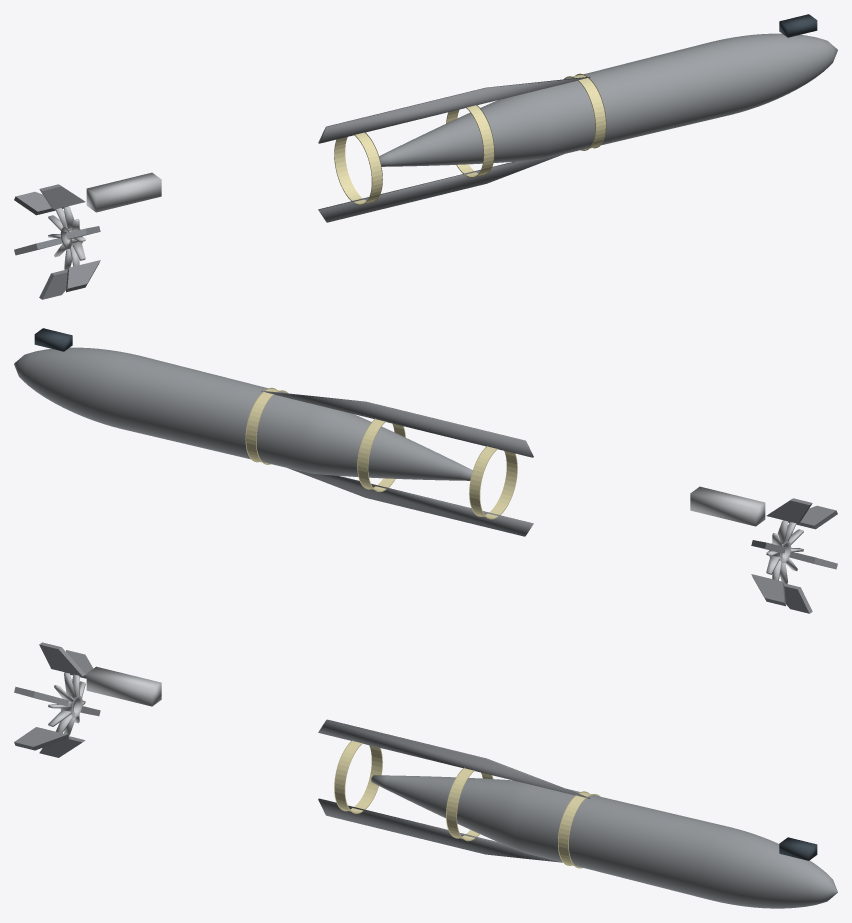
Rendered from RU_TORP_Fizik_LOD0.fbx.
The picture shows the model from 3 angles, top to bottom: view 1: azimuth 30°, elevation 25°; view 2: azimuth 150°, elevation 25°; view 3: azimuth 330°, elevation 25°; orthographic projection.
Parts seen in each view (by area): view 1: WPN_RU_TORP_Fizik_LOD0_Body, WPN_RU_TORP_Fizik_LOD0_Detail, WPN_RU_TORP_Fizik_LOD0_Marking, WPN_RU_TORP_Fizik_LOD0_Fins, WPN_RU_TORP_Fizik_LOD0_Propulsor, WPN_RU_TORP_Fizik_LOD0_Seeker; view 2: WPN_RU_TORP_Fizik_LOD0_Body, WPN_RU_TORP_Fizik_LOD0_Detail, WPN_RU_TORP_Fizik_LOD0_Marking, WPN_RU_TORP_Fizik_LOD0_Fins, WPN_RU_TORP_Fizik_LOD0_Propulsor, WPN_RU_TORP_Fizik_LOD0_Seeker; view 3: WPN_RU_TORP_Fizik_LOD0_Body, WPN_RU_TORP_Fizik_LOD0_Detail, WPN_RU_TORP_Fizik_LOD0_Marking, WPN_RU_TORP_Fizik_LOD0_Fins, WPN_RU_TORP_Fizik_LOD0_Propulsor, WPN_RU_TORP_Fizik_LOD0_Seeker.
Part boxes in pixels (x1,y1,x2,y2): WPN_RU_TORP_Fizik_LOD0_Body: (379, 33, 837, 166); WPN_RU_TORP_Fizik_LOD0_Detail: (86, 76, 590, 222); WPN_RU_TORP_Fizik_LOD0_Marking: (334, 73, 606, 205); WPN_RU_TORP_Fizik_LOD0_Fins: (14, 184, 100, 299); WPN_RU_TORP_Fizik_LOD0_Propulsor: (48, 206, 85, 269); WPN_RU_TORP_Fizik_LOD0_Seeker: (779, 14, 817, 37); WPN_RU_TORP_Fizik_LOD0_Body: (14, 347, 472, 480); WPN_RU_TORP_Fizik_LOD0_Detail: (261, 390, 765, 536); WPN_RU_TORP_Fizik_LOD0_Marking: (245, 387, 517, 519); WPN_RU_TORP_Fizik_LOD0_Fins: (751, 498, 837, 613); WPN_RU_TORP_Fizik_LOD0_Propulsor: (766, 520, 803, 583); WPN_RU_TORP_Fizik_LOD0_Seeker: (34, 328, 72, 351); WPN_RU_TORP_Fizik_LOD0_Body: (371, 775, 837, 908); WPN_RU_TORP_Fizik_LOD0_Detail: (86, 666, 590, 862); WPN_RU_TORP_Fizik_LOD0_Marking: (334, 740, 600, 868); WPN_RU_TORP_Fizik_LOD0_Fins: (14, 642, 100, 757); WPN_RU_TORP_Fizik_LOD0_Propulsor: (48, 672, 85, 735); WPN_RU_TORP_Fizik_LOD0_Seeker: (779, 837, 817, 860).
Size of the model in its own units: 6.49 by 0.753 by 0.8449.
